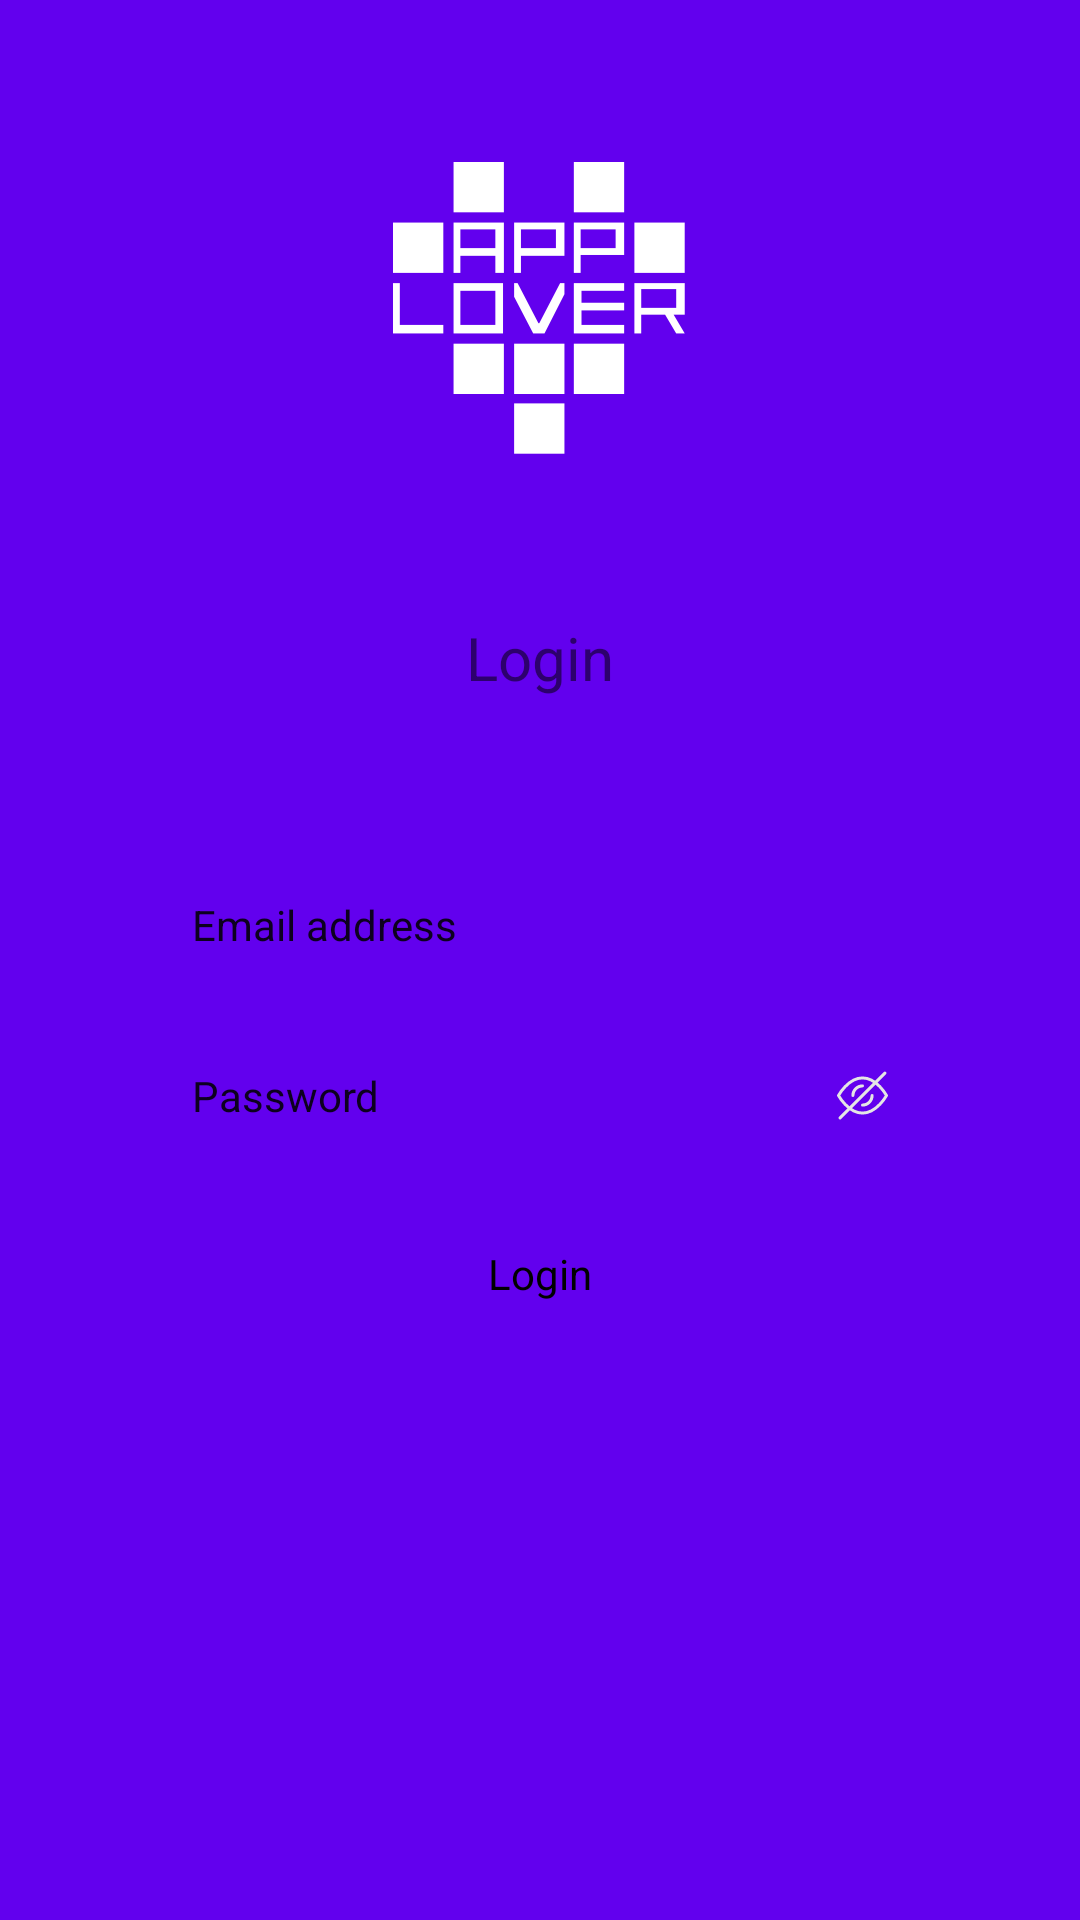

Named icons in this screenshot (1080px×1920px) and their bounding boxes, {"left": x1, "top": y1, "right": x2, "bottom": y2}:
eye closed: {"left": 837, "top": 1071, "right": 888, "bottom": 1120}
